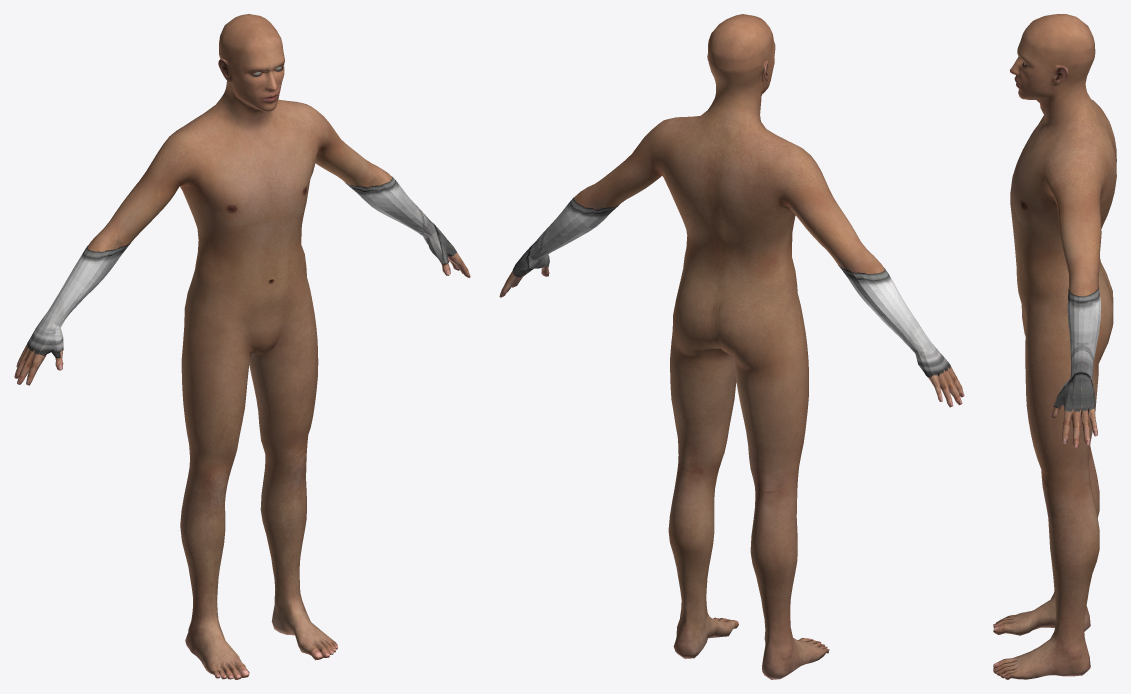
Rendered from M_Armpads_Armoured.glb.
3 renders of one model, left to right at view 1: azimuth 30°, elevation 25°; view 2: azimuth 150°, elevation 25°; view 3: azimuth 270°, elevation 25°, orthographic.
Bounding box in the file's own units: 139 × 185 × 32.6.
4 materials, 3 textured.
